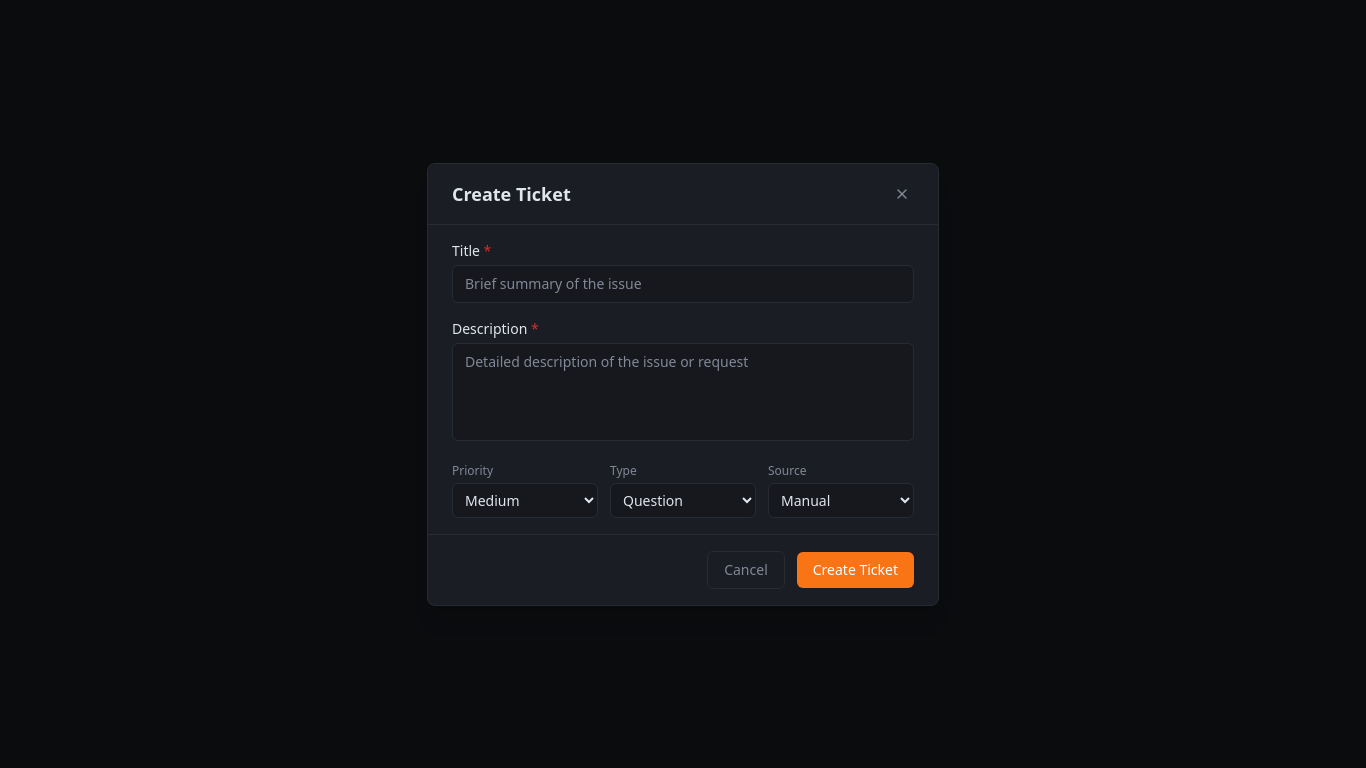
Test: CreateTicketModal › shows validation error when title is empty
The width and height of the screenshot is (1366, 768).
Click the button with test id "create-ticket-submit" at (855, 570), box [797,552,914,588]
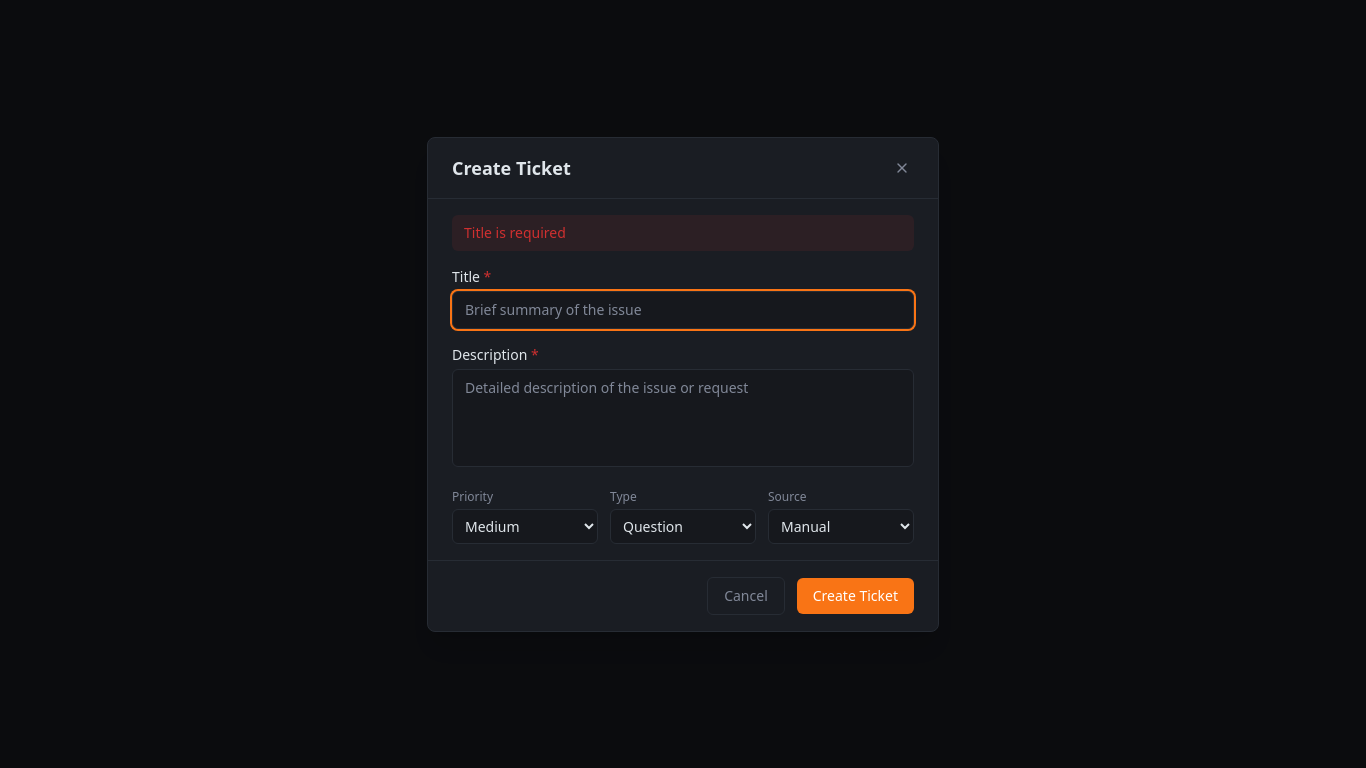
Result: the text with test id "create-ticket-error" reads "Title is required" at [464,222,566,242]
